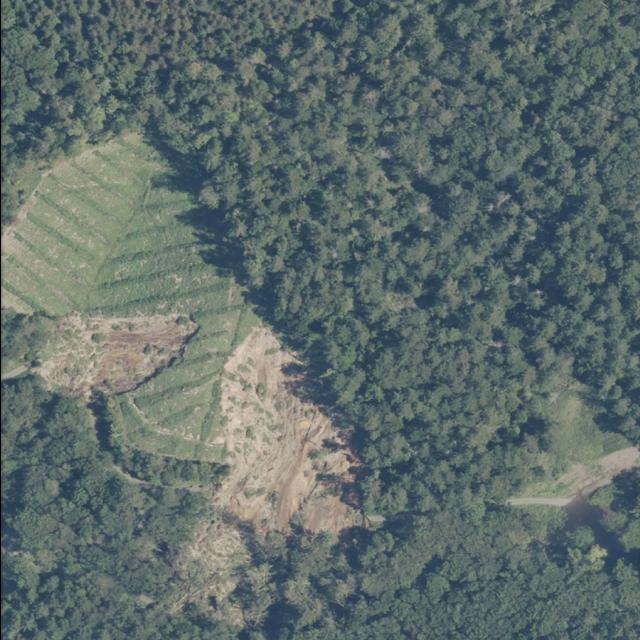landslide: (214, 327, 368, 535), (30, 313, 197, 398), (168, 514, 249, 626)
